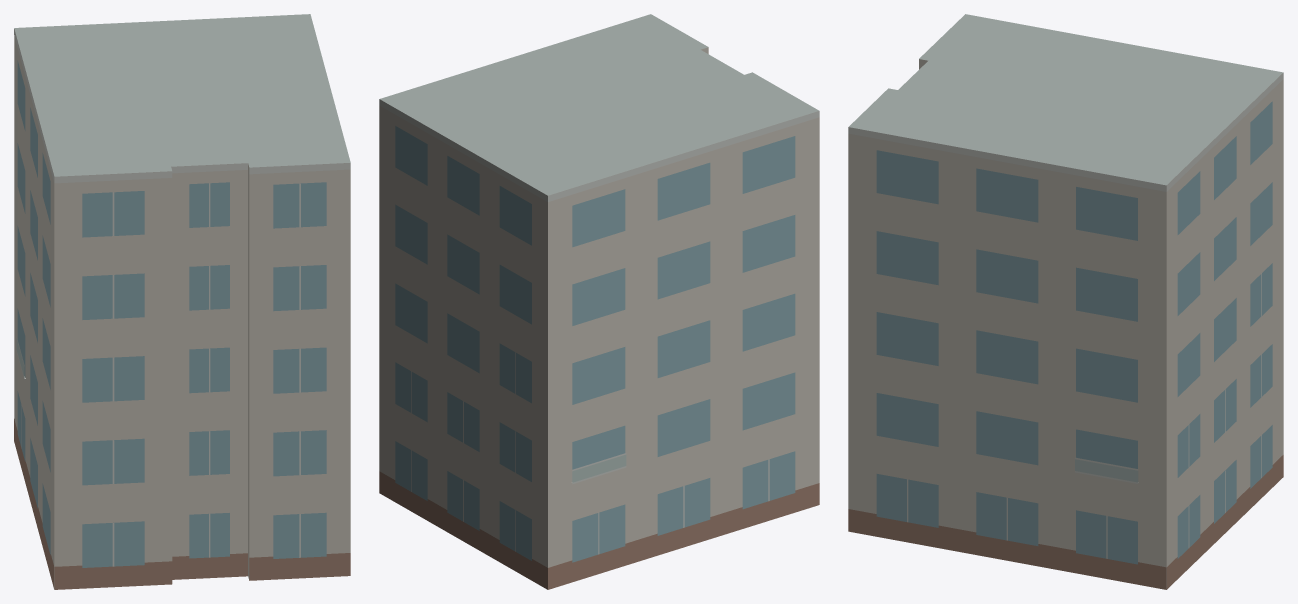
The model's file is survey-upis-32530723.glb.
The picture shows the model from 3 angles, left to right: view 1: azimuth 30°, elevation 25°; view 2: azimuth 150°, elevation 25°; view 3: azimuth 270°, elevation 25°; orthographic projection. The views are drawn at different scales.
Parts seen in each view (by area): view 1: survey-upis-32530723.tmp; view 2: survey-upis-32530723.tmp; view 3: survey-upis-32530723.tmp.
Part boxes in pixels (box(x1,y1,x2,y2)): survey-upis-32530723.tmp: box(14, 14, 350, 589); survey-upis-32530723.tmp: box(379, 14, 819, 589); survey-upis-32530723.tmp: box(848, 14, 1283, 589).
Bounding box in the file's own units: 13.64 × 15 × 14.64.
